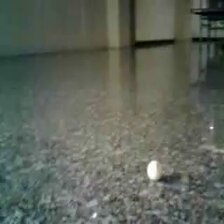w: (146, 161, 163, 179)
